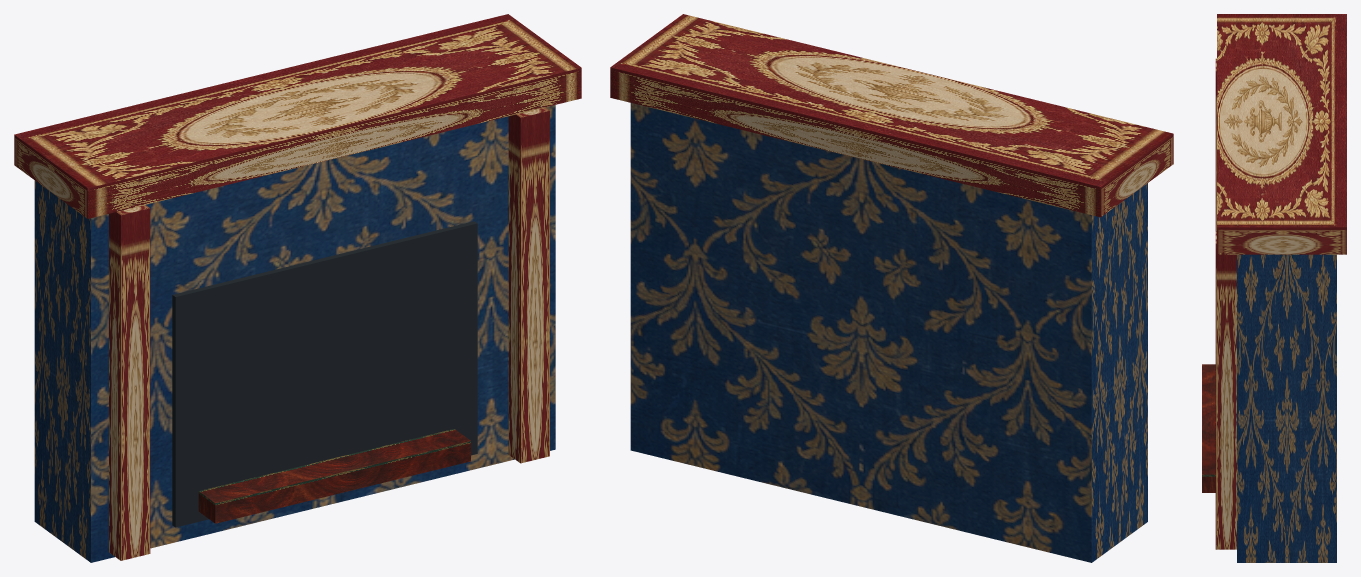
The model's file is fireplace.gltf.
3 views of the same model, side by side, from view 1: azimuth 30°, elevation 25°; view 2: azimuth 150°, elevation 25°; view 3: azimuth 270°, elevation 25° (orthographic). The views are drawn at different scales.
Visible parts, largest first — view 1: kit:0:furniture:panel:, kit:0:furniture:marble:, kit:0:furniture:dark:, kit:0:furniture:bronze:; view 2: kit:0:furniture:marble:, kit:0:furniture:panel:; view 3: kit:0:furniture:panel:, kit:0:furniture:marble:, kit:0:furniture:bronze:.
Part boxes in pixels (<box>): kit:0:furniture:panel:: <box>14,14,581,560</box>; kit:0:furniture:marble:: <box>34,105,555,562</box>; kit:0:furniture:dark:: <box>172,221,477,527</box>; kit:0:furniture:bronze:: <box>198,429,470,523</box>; kit:0:furniture:marble:: <box>630,103,1147,562</box>; kit:0:furniture:panel:: <box>610,14,1173,217</box>; kit:0:furniture:panel:: <box>1215,14,1346,549</box>; kit:0:furniture:marble:: <box>1237,254,1336,562</box>; kit:0:furniture:bronze:: <box>1202,364,1215,492</box>.
Bounding box in the file's own units: 2.02 × 1.51 × 0.58.
Materials: 4 (3 with a texture image).
